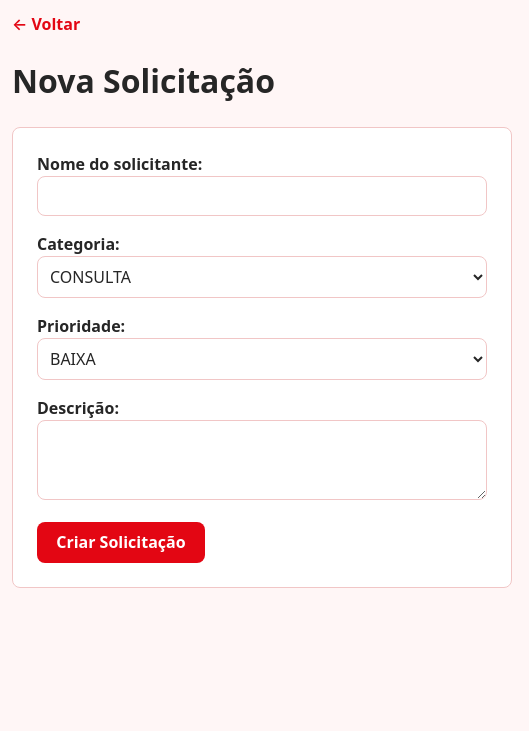
NovaSolicitacao › esconde o campo de justificativa novamente ao trocar de volta para prioridade não-urgente
Step 1. Select "URGENTE" in the dropdown labelled "Prioridade:" → (262, 359), box [37,338,487,380]
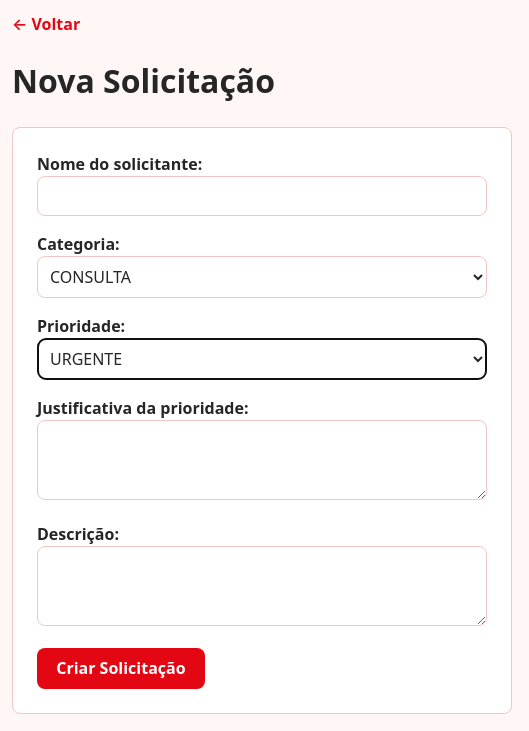
Check: the text box labelled "Justificativa da prioridade:" is shown, box [37,420,487,500]
Step 2. Select "MEDIA" in the dropdown labelled "Prioridade:" → (262, 359), box [37,338,487,380]
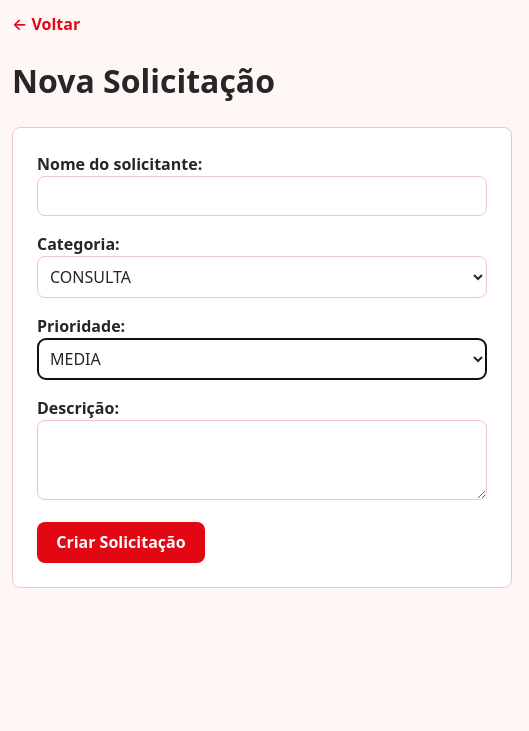
Check: the label labelled "Justificativa da prioridade" is gone
